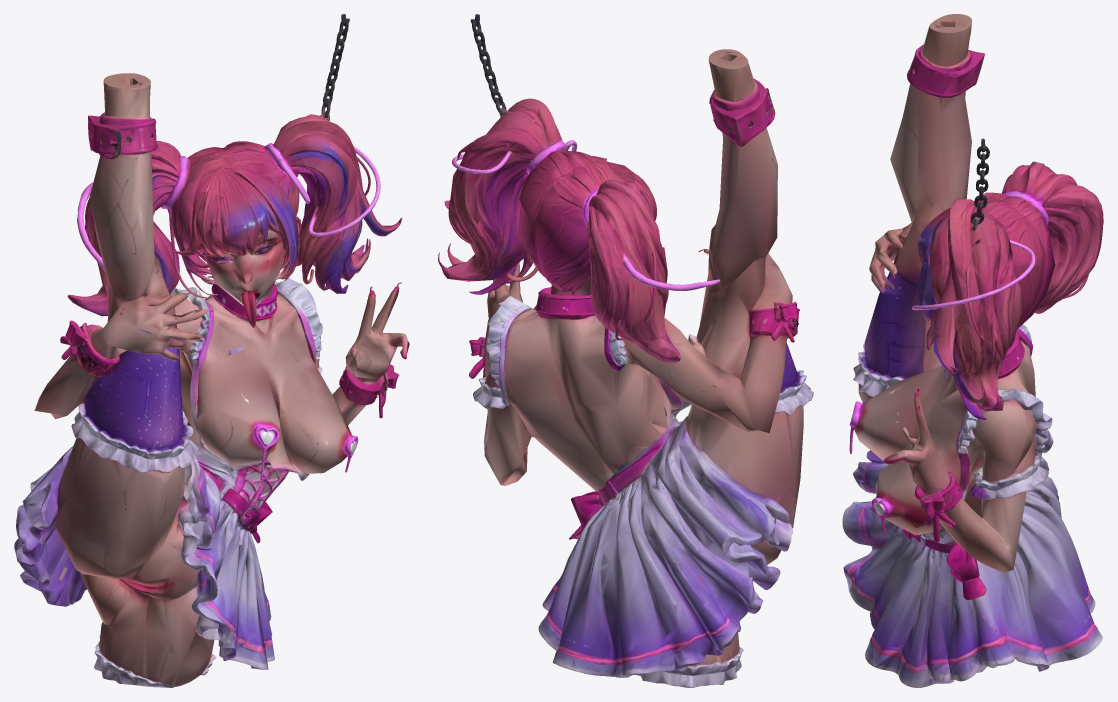
Rendered from 01a1a7c7-abab-7b74-a8b7-b8fe957ec74b.glb.
3 renders of one model, left to right at view 1: azimuth 30°, elevation 25°; view 2: azimuth 150°, elevation 25°; view 3: azimuth 270°, elevation 25°, orthographic.
Visible parts, largest first — view 1: model; view 2: model; view 3: model.
Part boxes in pixels (x1,y1,x2,y2): model: [14, 14, 409, 687]; model: [438, 14, 813, 687]; model: [842, 14, 1103, 687].
Bounding box in the file's own units: 1.02 × 1.65 × 0.6418.
Materials: 1 (1 with a texture image).
